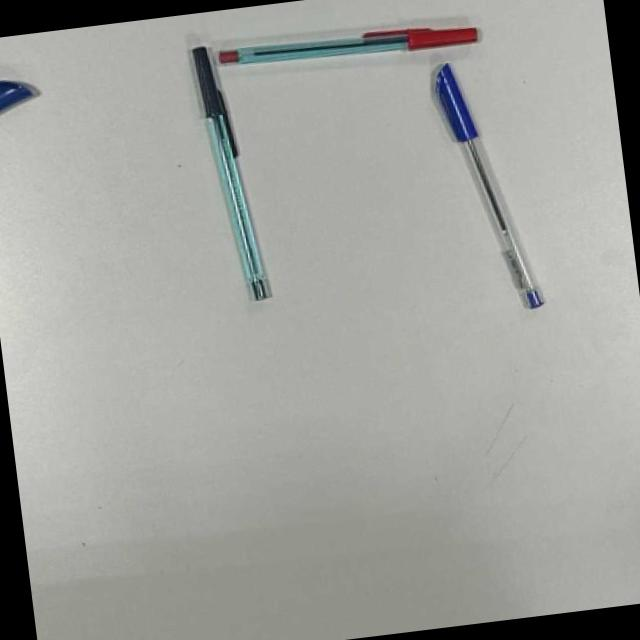caneta: (426, 62, 545, 314), (189, 45, 271, 301), (217, 22, 478, 71)
